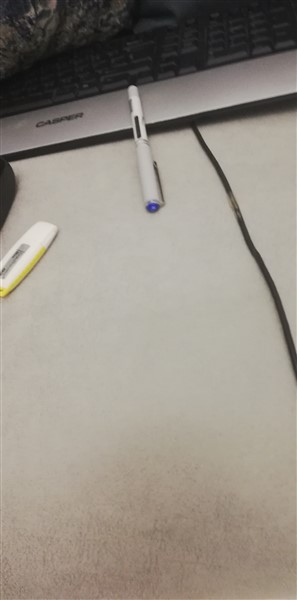flash disk: (1, 219, 72, 292)
klavye: (1, 1, 296, 157)
pilot kalem: (123, 83, 167, 215)
